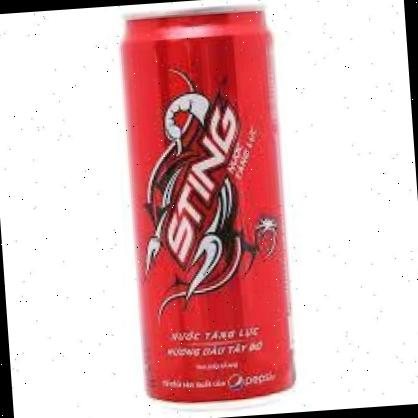can: (116, 1, 301, 412)
